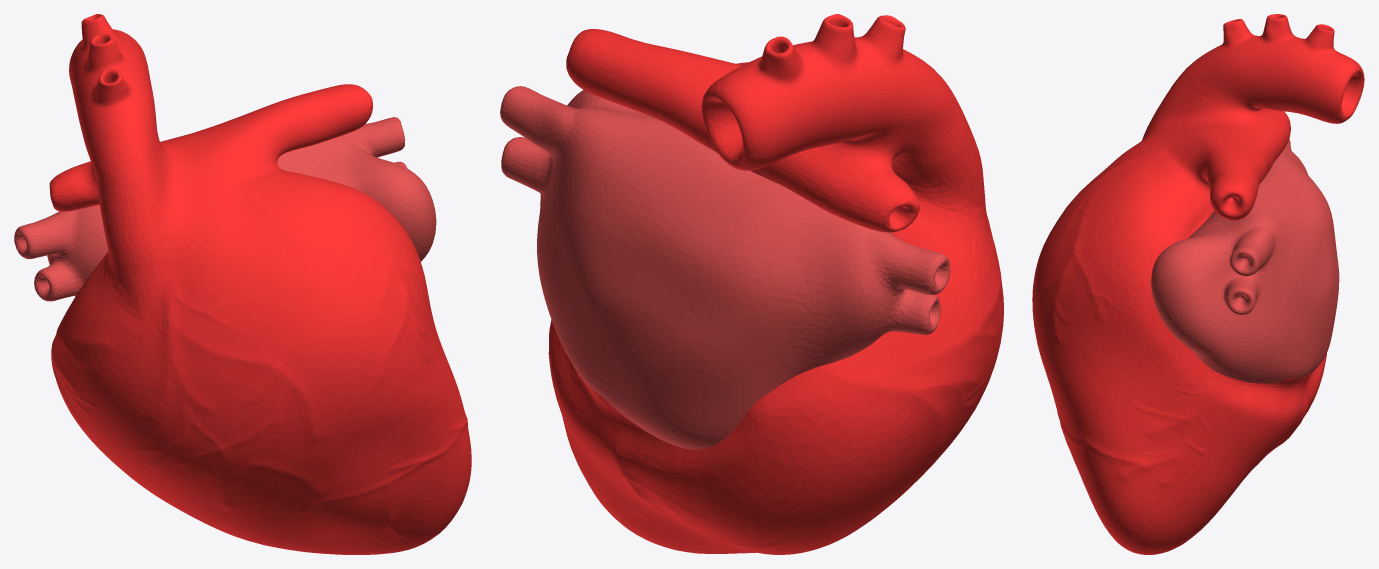
Rendered from Heart-low-khalifa-hawill-reimported.fbx.
3 views of the same model, side by side, from view 1: azimuth 30°, elevation 25°; view 2: azimuth 150°, elevation 25°; view 3: azimuth 270°, elevation 25° (orthographic). The views are drawn at different scales.
Parts seen in each view (by area): view 1: Sphere_2, Sphere.001_3; view 2: Sphere_2, Sphere.001_3; view 3: Sphere_2, Sphere.001_3.
Boxes of the visible parts, <box> form: Sphere_2: <box>49,14,471,554</box>; Sphere.001_3: <box>14,117,436,301</box>; Sphere_2: <box>548,14,1003,554</box>; Sphere.001_3: <box>500,86,950,449</box>; Sphere_2: <box>1032,14,1364,554</box>; Sphere.001_3: <box>1151,139,1339,383</box>.
Bounding box in the file's own units: 177 × 236 × 159.
